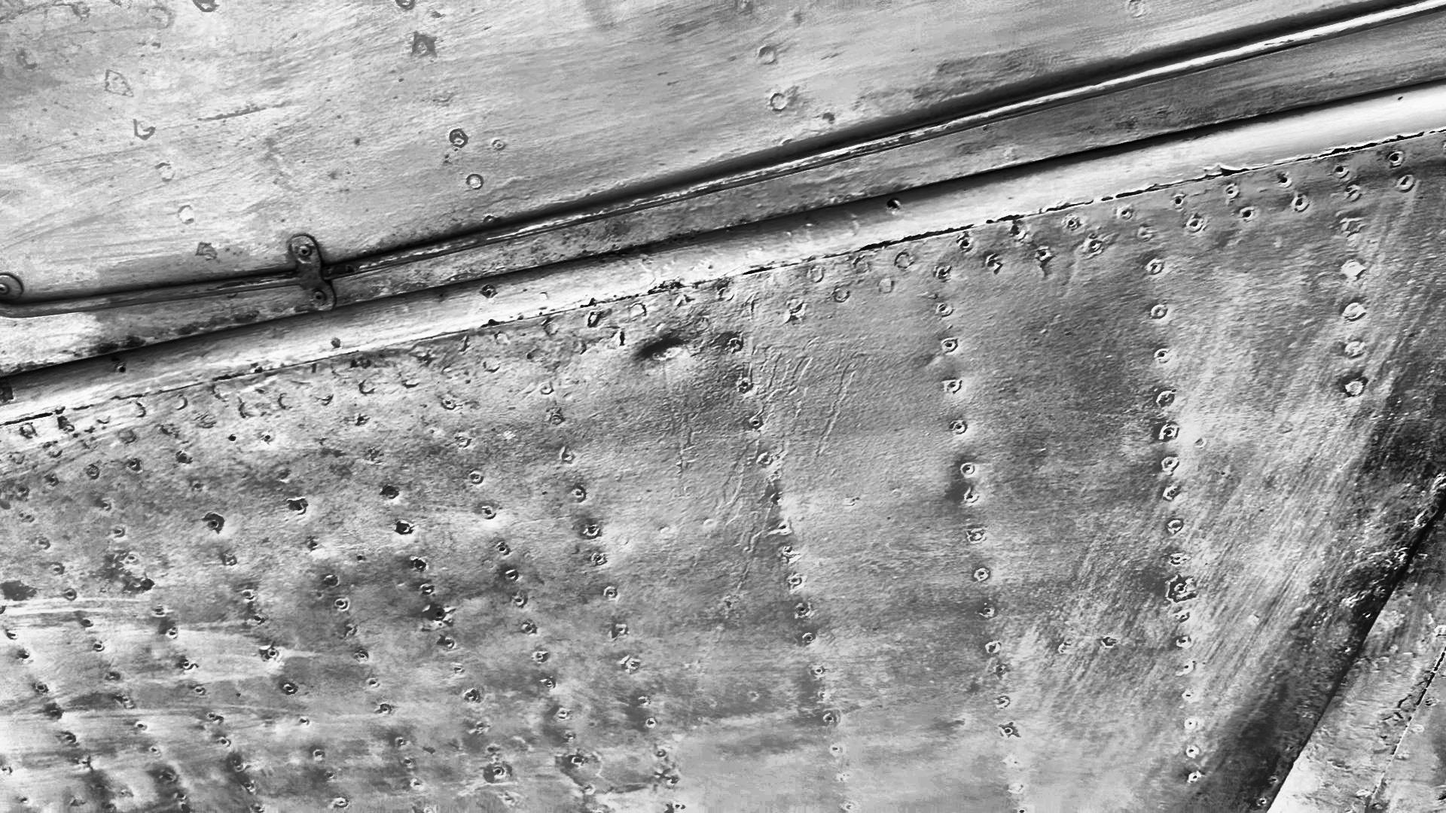dent: (644, 337, 687, 359)
